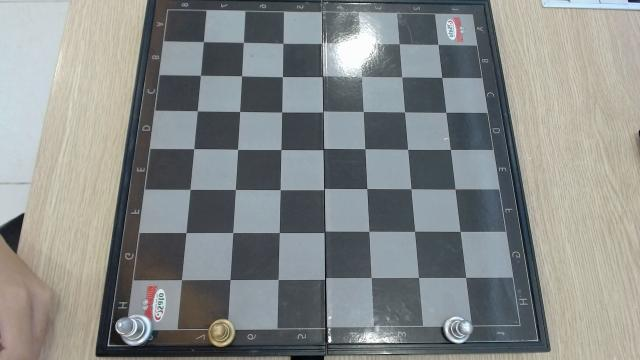black_pawn: (206, 319, 236, 348)
white_bishop: (114, 314, 151, 347)
white_pawn: (441, 316, 475, 346)
